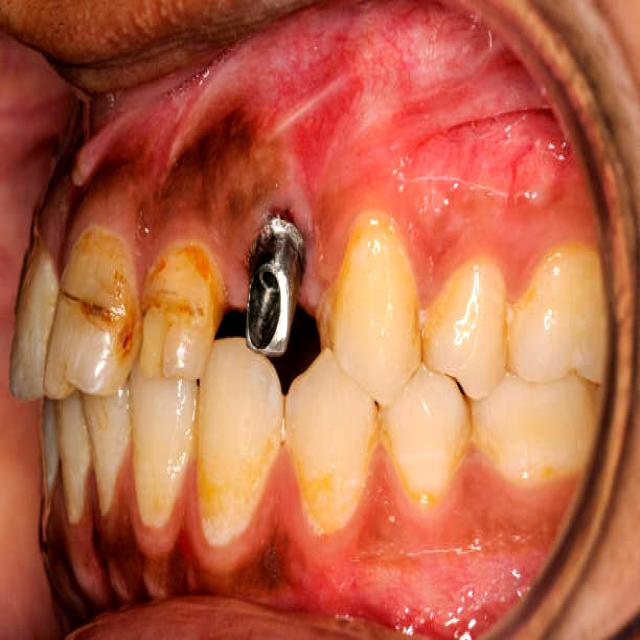gingivitis: (83, 109, 568, 283), (41, 470, 578, 609)
